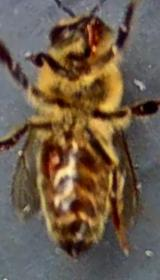varroa_mite: (34, 137, 72, 182)
